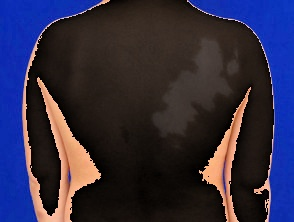vitiligo: (102, 0, 273, 185)
